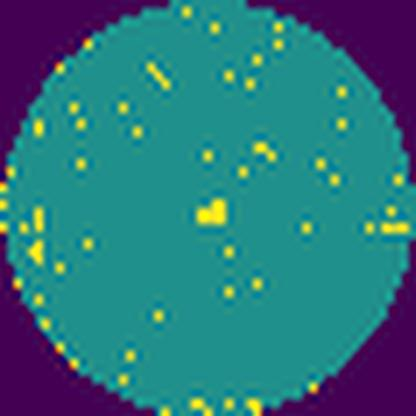Center: (198, 199, 228, 227)
